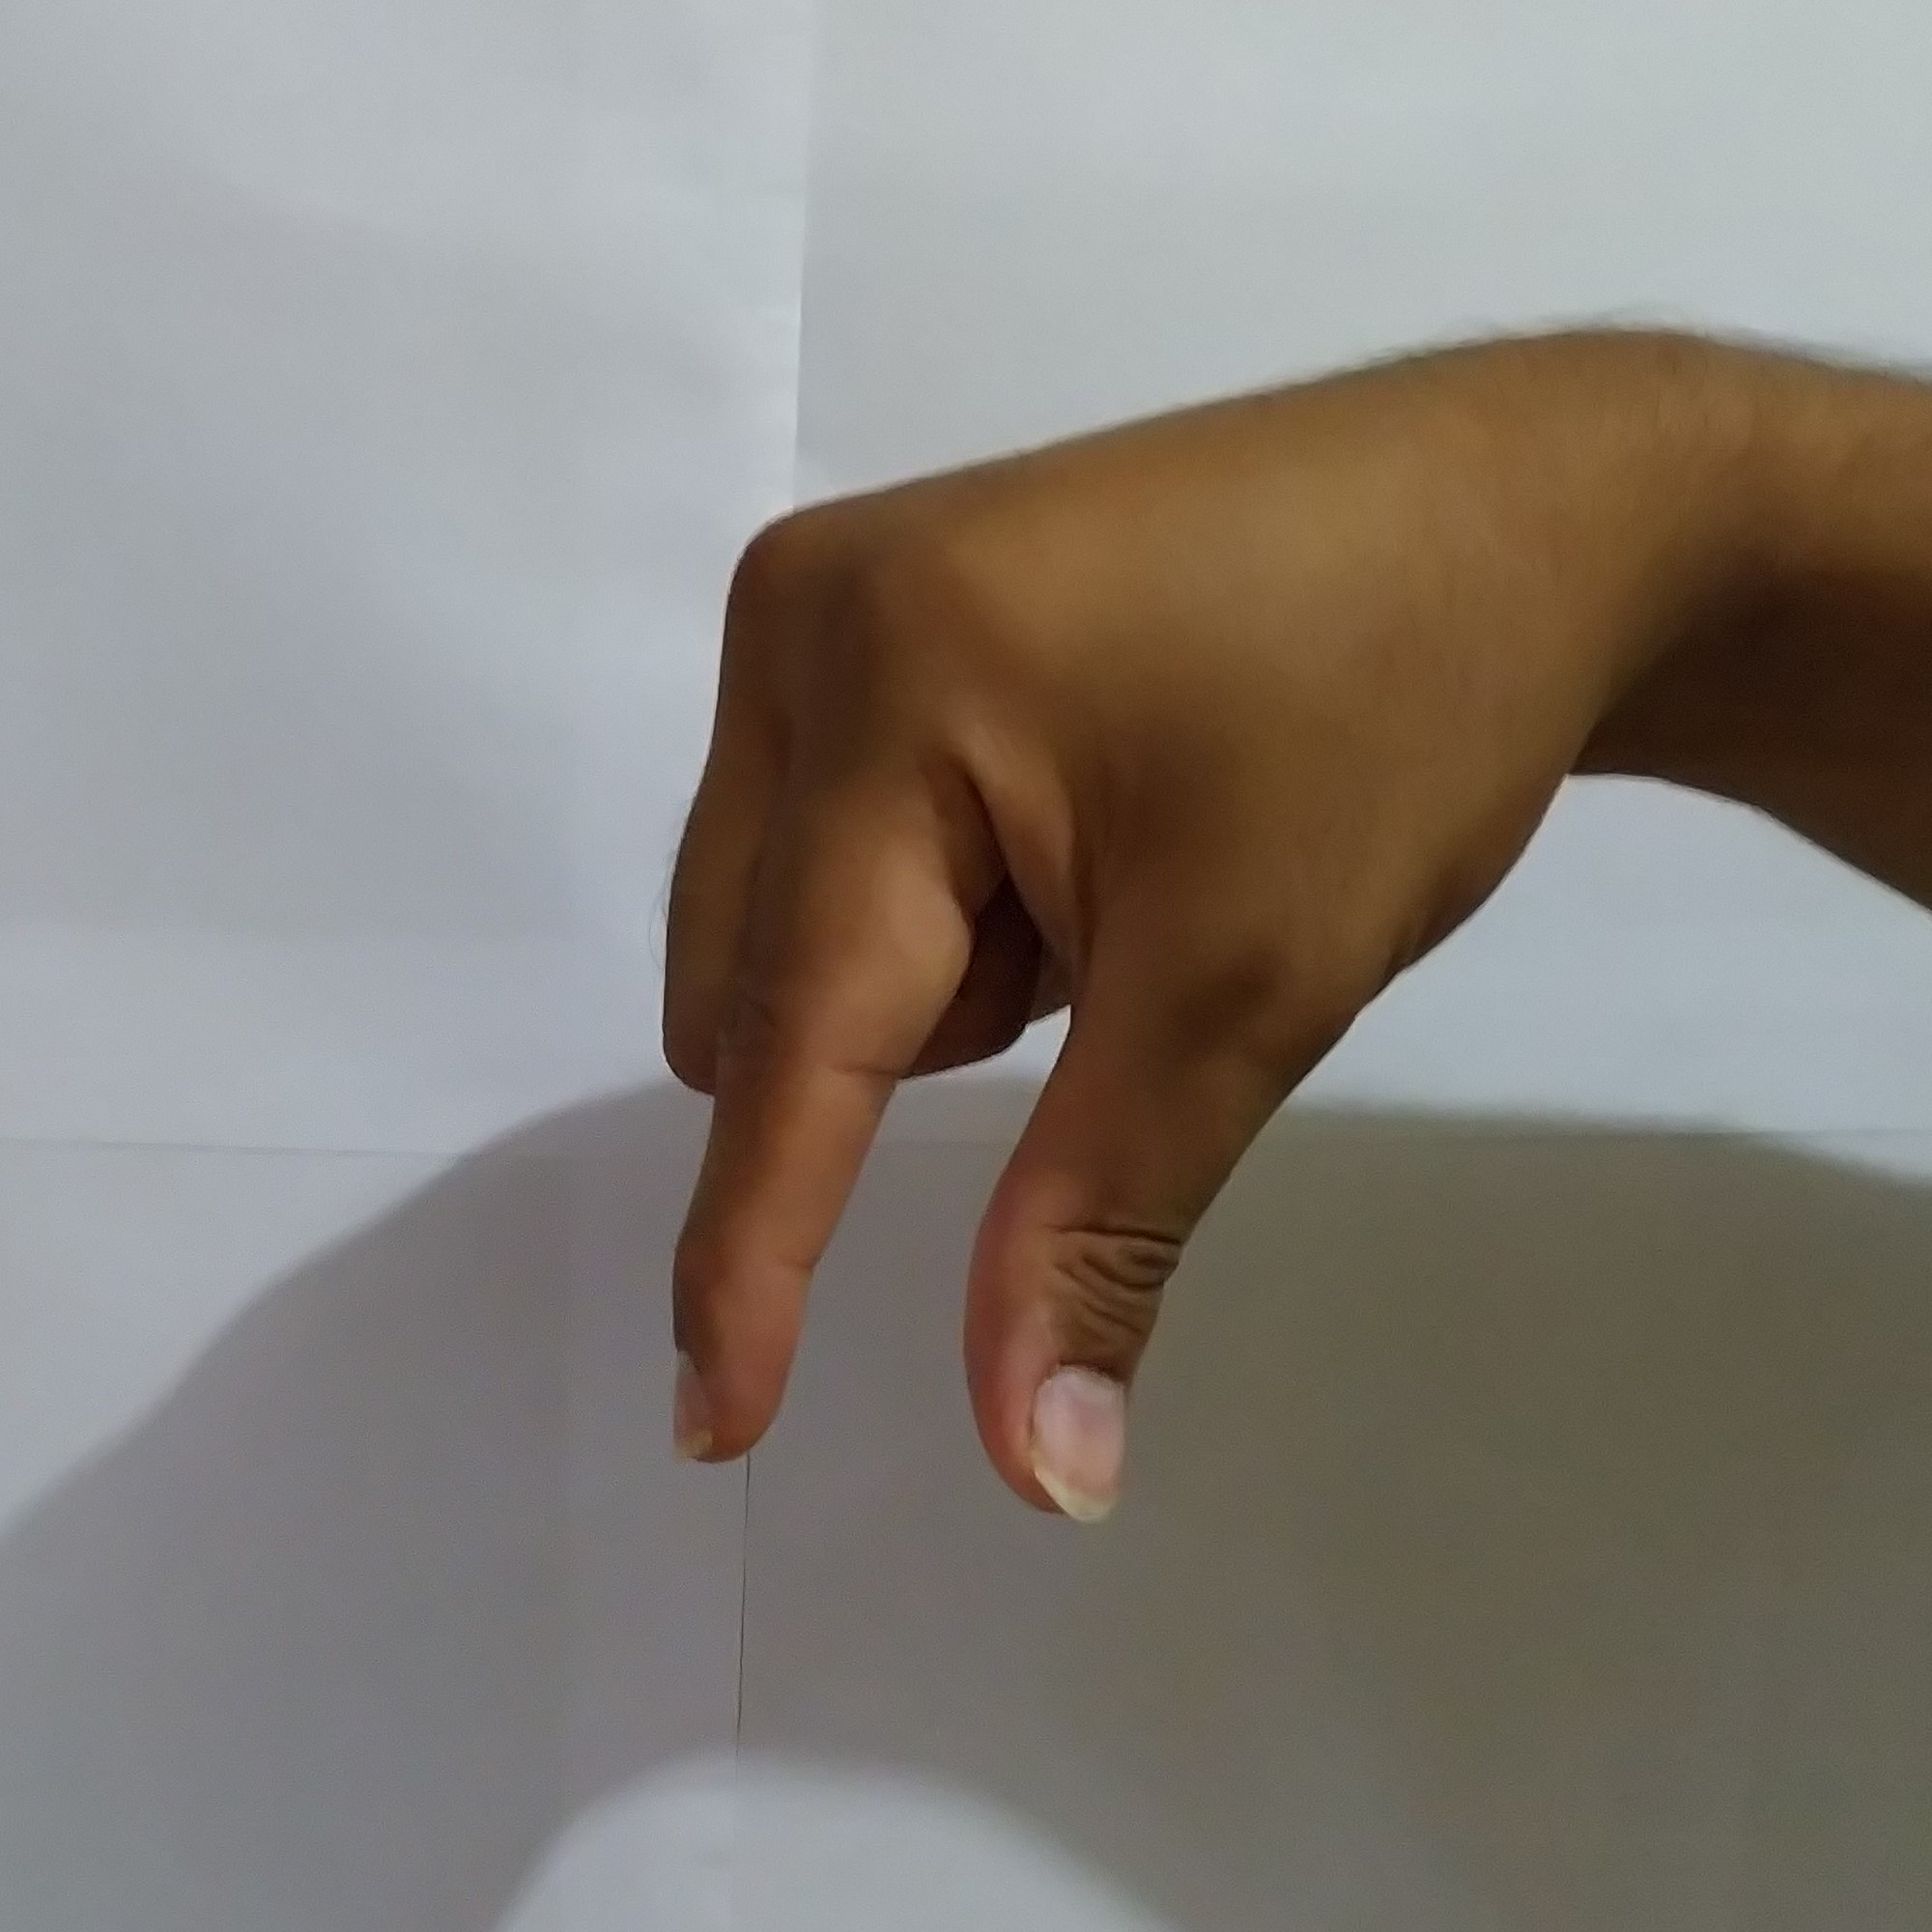Q: (616, 331, 1615, 1566)
